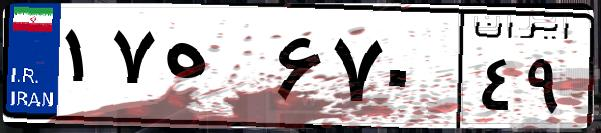0: (385, 28, 445, 110)
1: (57, 26, 110, 100)
4: (475, 38, 525, 113)
6: (270, 28, 330, 110)
7: (330, 28, 385, 110), (110, 28, 158, 98)
9: (525, 38, 570, 115)
ه: (158, 20, 270, 120)
